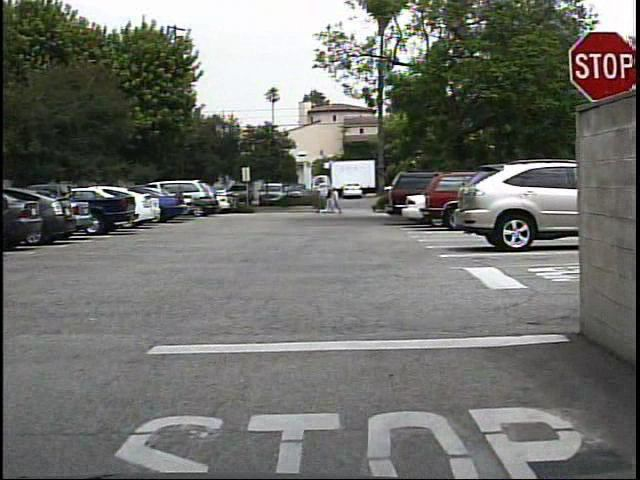person: (329, 186, 347, 216), (314, 186, 329, 215), (323, 186, 336, 217)
